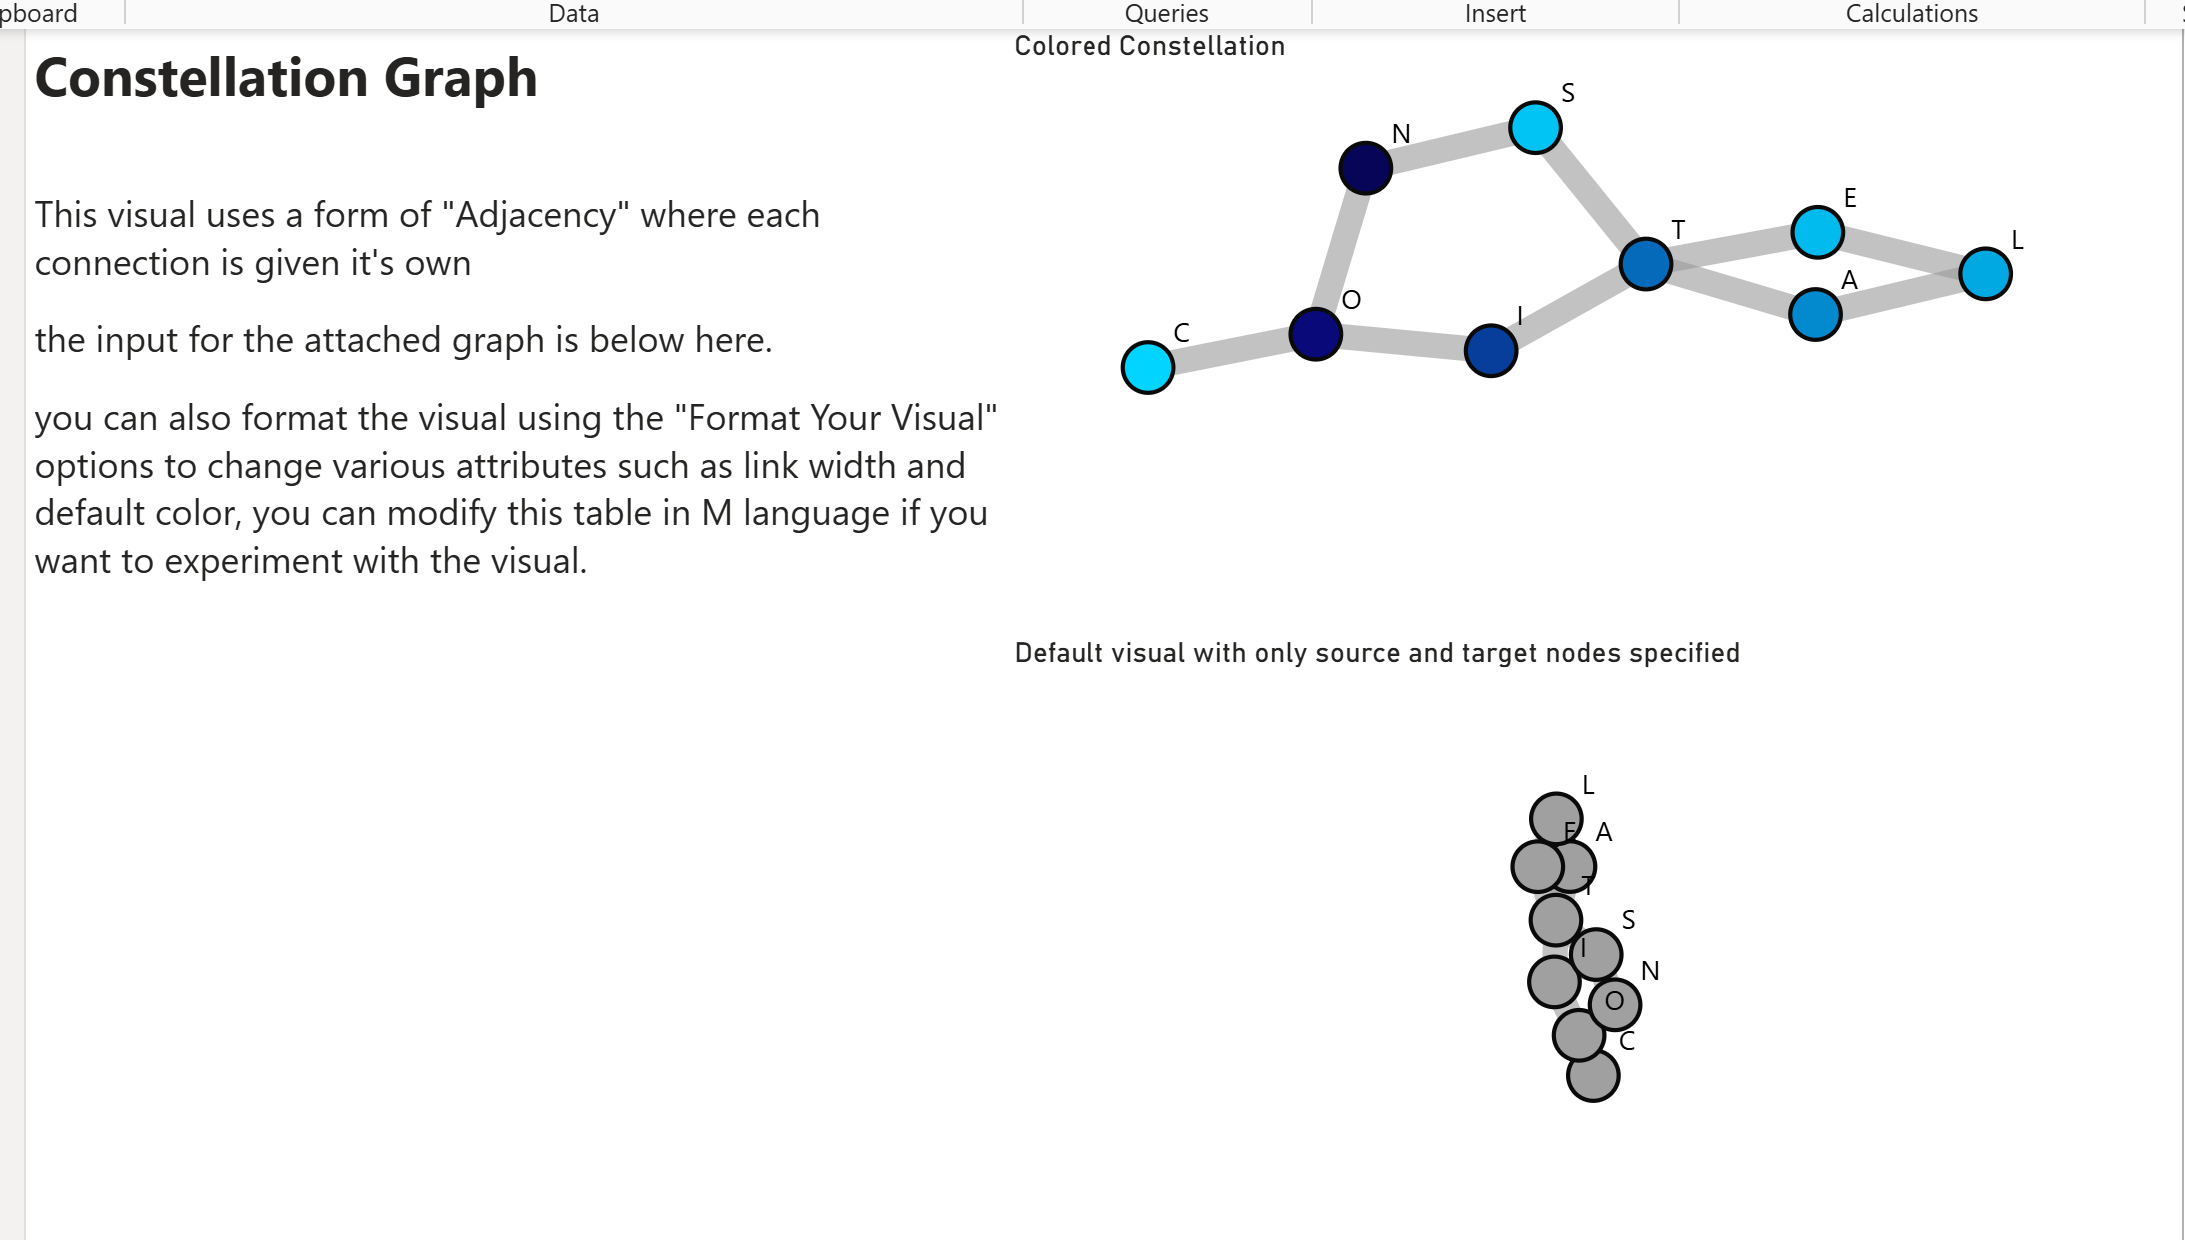

What the dashboard file says about the page in this screenshot:
{"tool":"powerbi","page":{"name":"Page 1","canvas":[1280,720],"ordinal":0},"visuals":[{"type":"tableEx","fields":{"Values":["Query1.Source City","Query1.Target City","Query1.Source City Size","Query1.Link_color"]},"box":[0,396.7,380.4,322.7],"z":0},{"type":"textbox","box":[0,0,380,397],"z":2},{"type":"constellationC3682F5F8D8B4E64AECF6369114FB8DD","fields":{"source_node":["Query1.Source City"],"target_node":["Query1.Target City"],"source_size":["Query1.Source City Size"],"source_fill":["Query1.Link_color"]},"box":[380.4,0,899.9,719.3],"z":3}]}

Visuals, with their boxes on the page's 1280x720 design canvas (x1, y1, x2, y2). These are canvas units, not pixel positions in the 2185x1240 screenshot, which may show the page scaled, cropped or inside an application window:
tableEx - Query1.Source City x Query1.Target City: bbox=[0, 397, 380, 719]
textbox: bbox=[0, 0, 380, 397]
constellationC3682F5F8D8B4E64AECF6369114FB8DD - Query1.Source City x Query1.Target City: bbox=[380, 0, 1280, 719]
